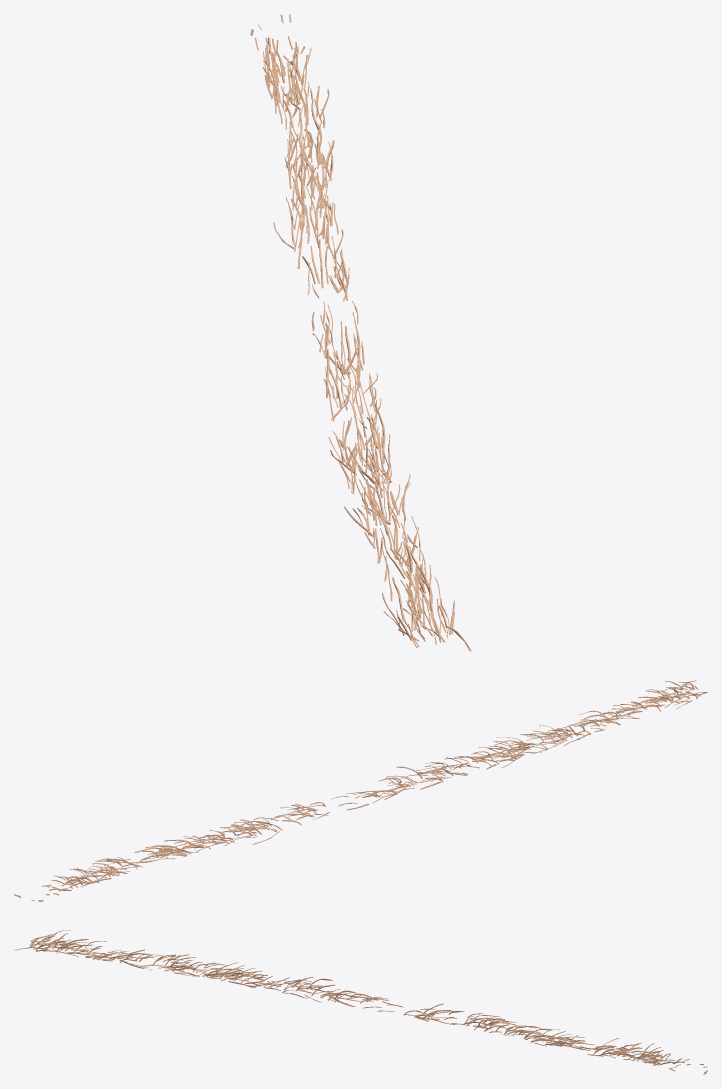
Rendered from Straw.fbx.
3 views of the same model, one above another, from view 1: azimuth 30°, elevation 25°; view 2: azimuth 150°, elevation 25°; view 3: azimuth 270°, elevation 25° (orthographic). The views are drawn at different scales.
Visible parts, largest first — view 1: straw1Main; view 2: straw1Main; view 3: straw1Main.
Boxes of the visible parts, <box> form: straw1Main: <box>250,14,471,651</box>; straw1Main: <box>14,680,707,901</box>; straw1Main: <box>14,930,707,1074</box>.
Bounding box in the file's own units: 5.43 × 0.356 × 11.85.
